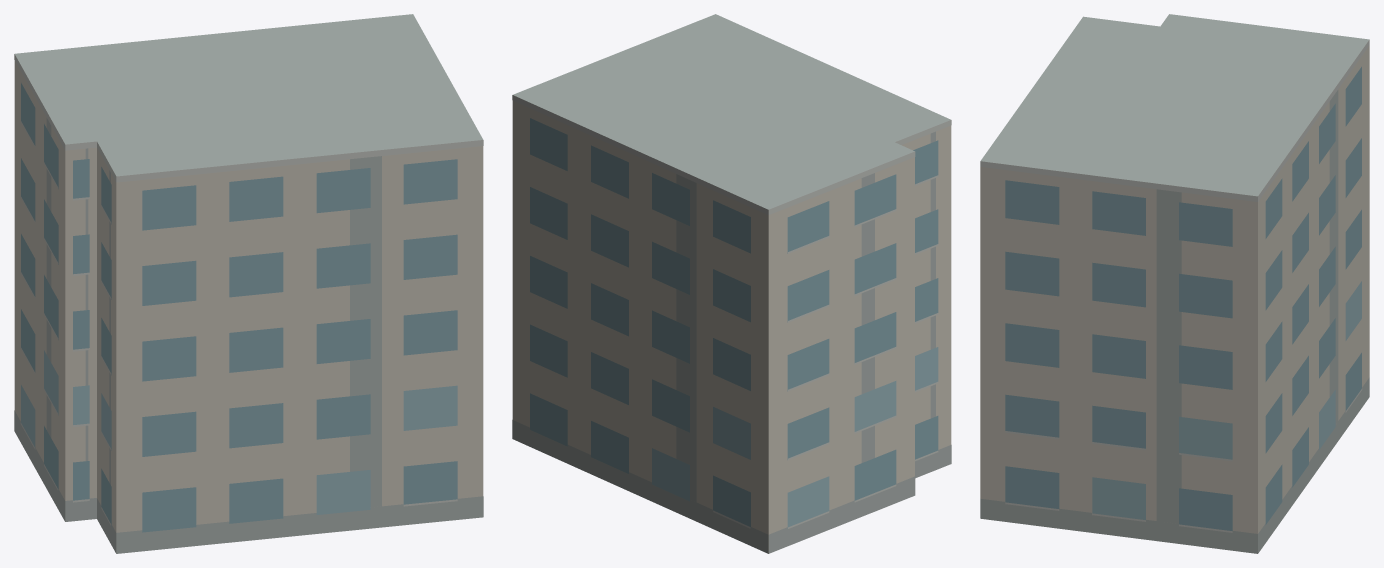
Rendered from residential-0c73a3c4-fe61-4d56-87d7-bd5784f56164.glb.
3 views of the same model, side by side, from view 1: azimuth 30°, elevation 25°; view 2: azimuth 150°, elevation 25°; view 3: azimuth 270°, elevation 25° (orthographic). The views are drawn at different scales.
Visible parts, largest first — view 1: residential-0c73a3c4-fe61-4d56-87d7-bd5784f56164.tmp; view 2: residential-0c73a3c4-fe61-4d56-87d7-bd5784f56164.tmp; view 3: residential-0c73a3c4-fe61-4d56-87d7-bd5784f56164.tmp.
Boxes of the visible parts, x1=… form: residential-0c73a3c4-fe61-4d56-87d7-bd5784f56164.tmp: x1=14, y1=14, x2=483, y2=553; residential-0c73a3c4-fe61-4d56-87d7-bd5784f56164.tmp: x1=512, y1=14, x2=951, y2=553; residential-0c73a3c4-fe61-4d56-87d7-bd5784f56164.tmp: x1=980, y1=14, x2=1369, y2=553.
Size of the model in its own units: 16.7 by 15.25 by 15.06.
